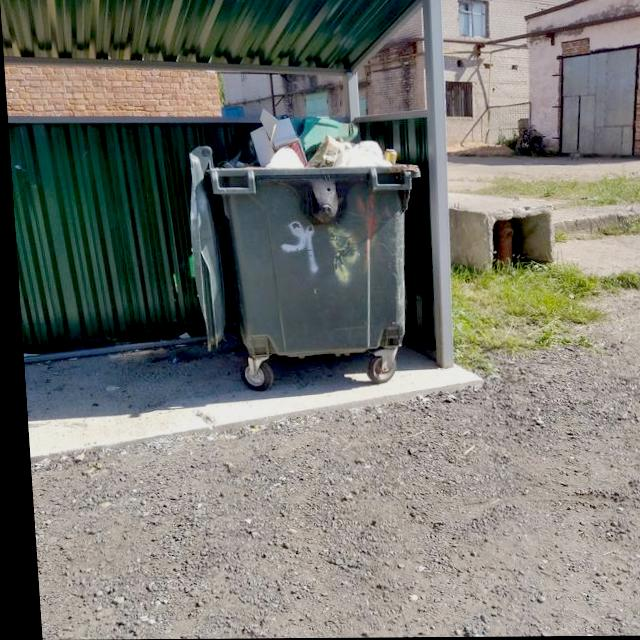Trash_Can_Full: (206, 109, 429, 361)
